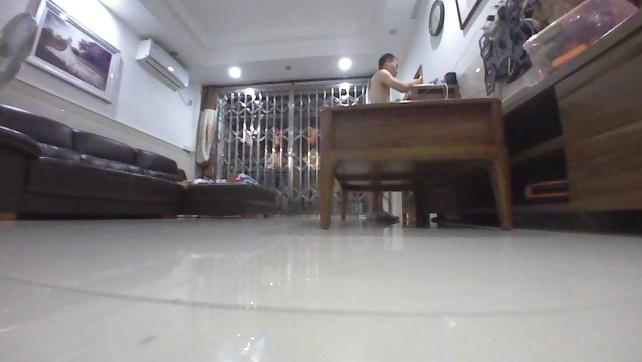TV_stand1: (455, 6, 640, 227)
sofa: (0, 100, 280, 220)
tea_table1: (315, 93, 513, 230)
